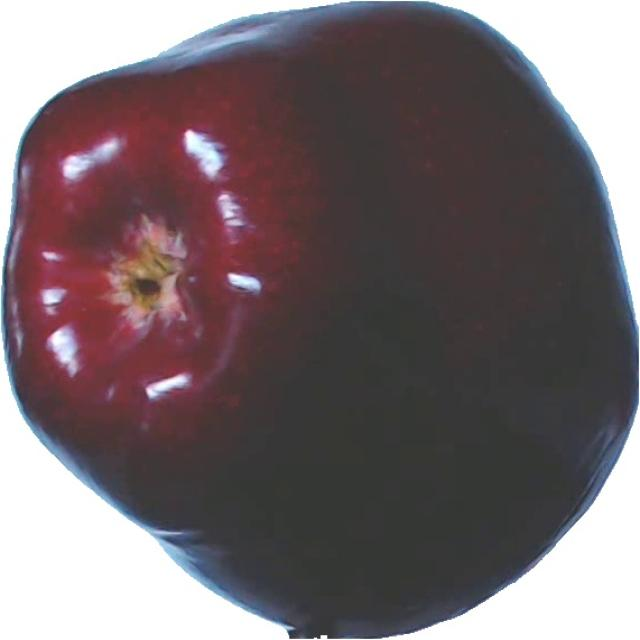Scartlet Spur Elma: (1, 0, 639, 638)
